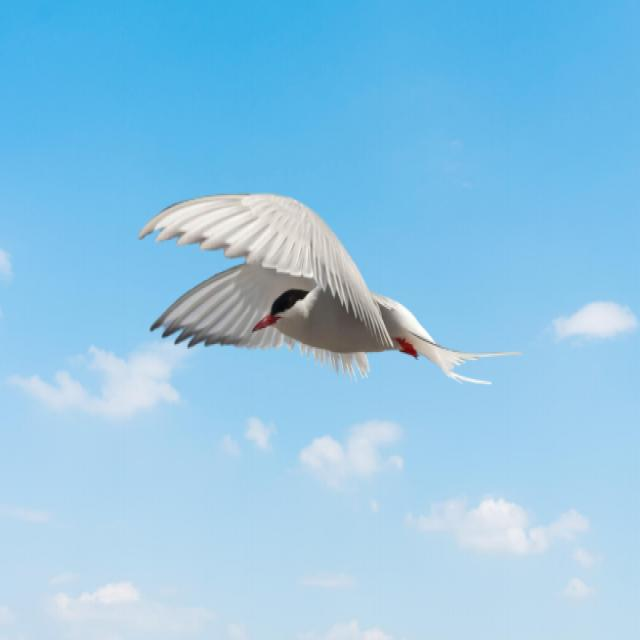birds: (137, 194, 521, 389)
